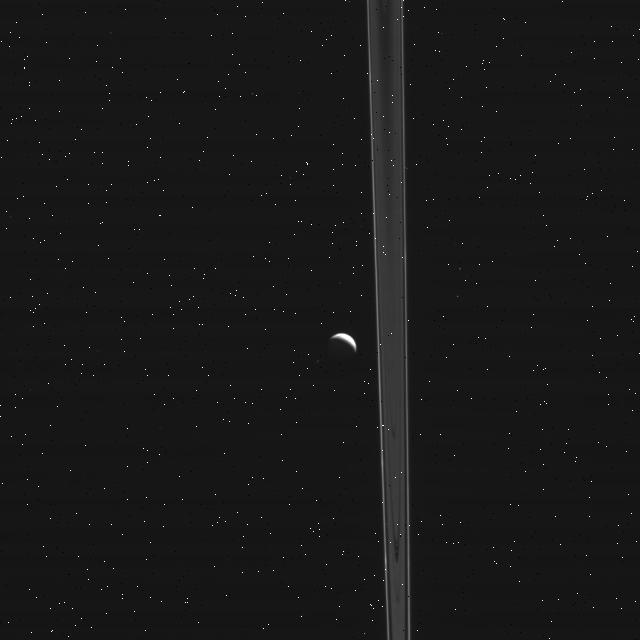Saturn: (364, 0, 404, 640)
